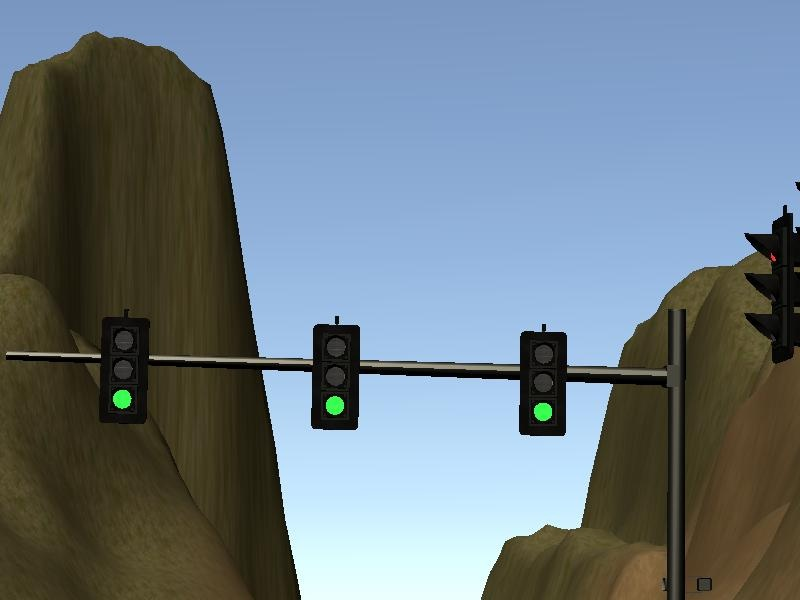GREEN: (97, 315, 151, 424), (518, 330, 569, 437), (311, 323, 361, 432)
